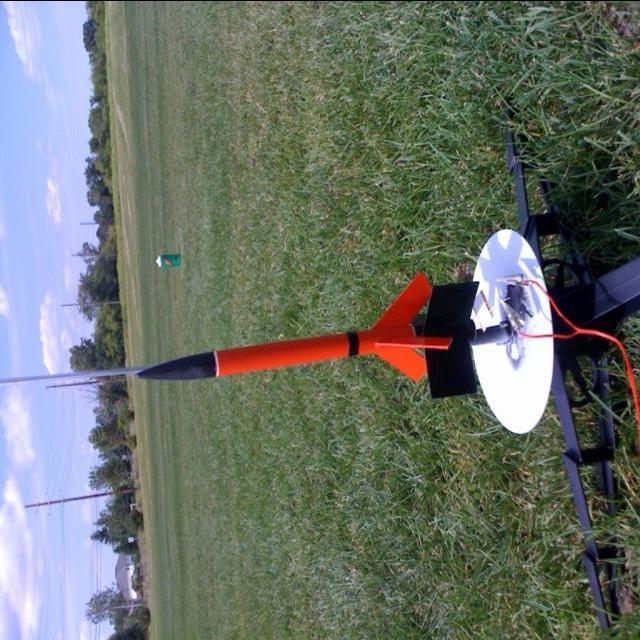Missile: (137, 272, 450, 392)
